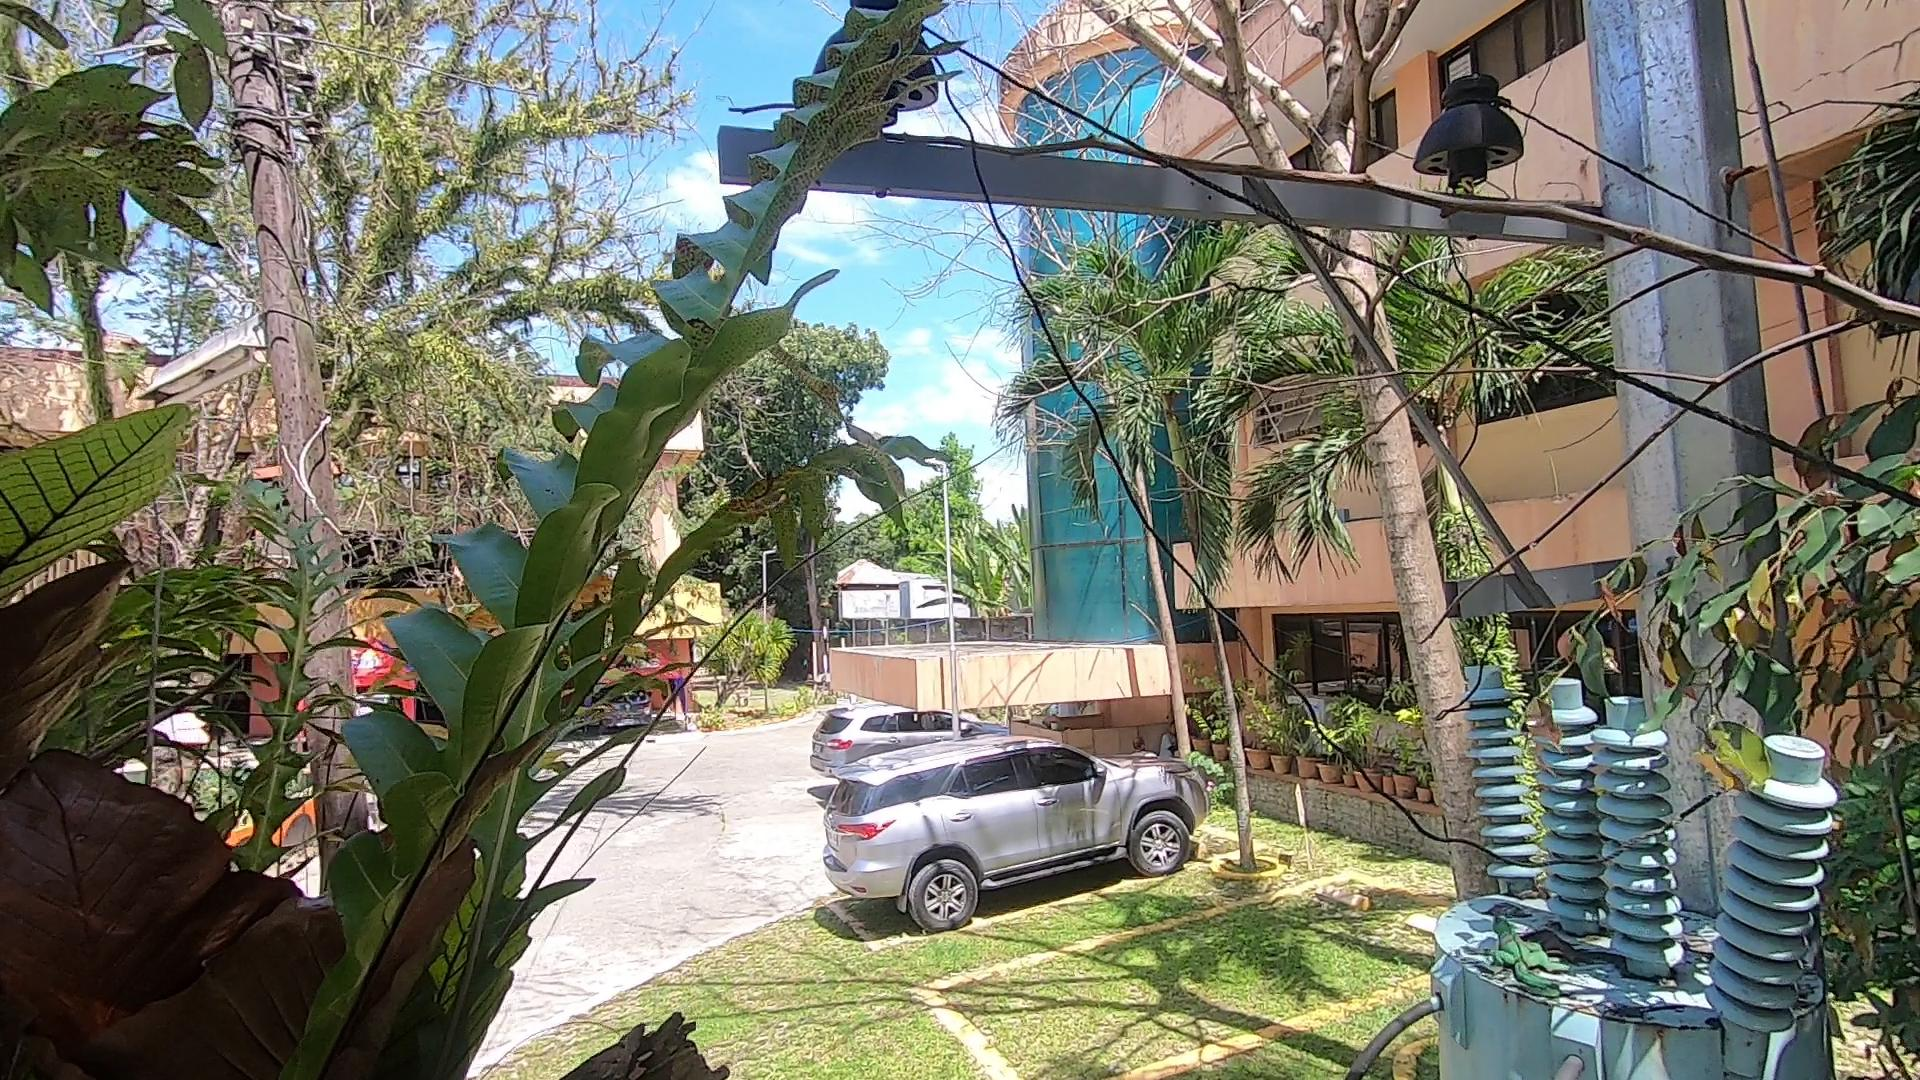leaf: (1527, 924, 1597, 965)
tree branch: (716, 69, 1919, 655)
